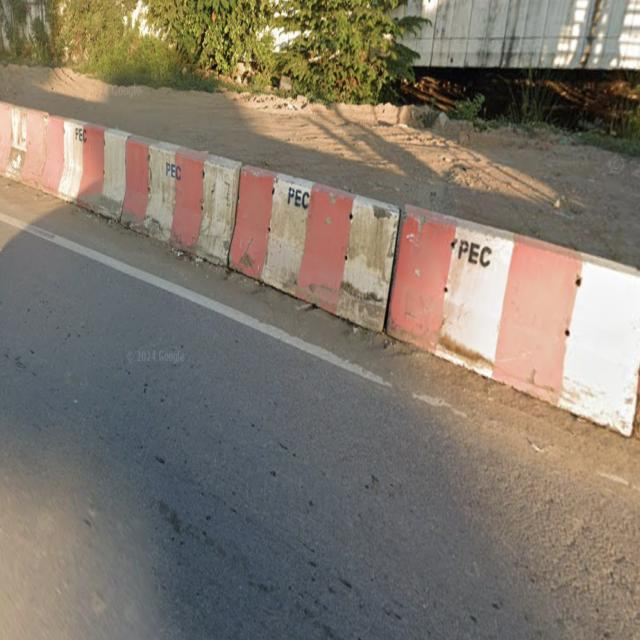fallen_object: (383, 187, 640, 468), (213, 146, 392, 363), (65, 107, 230, 274), (0, 86, 93, 223)
